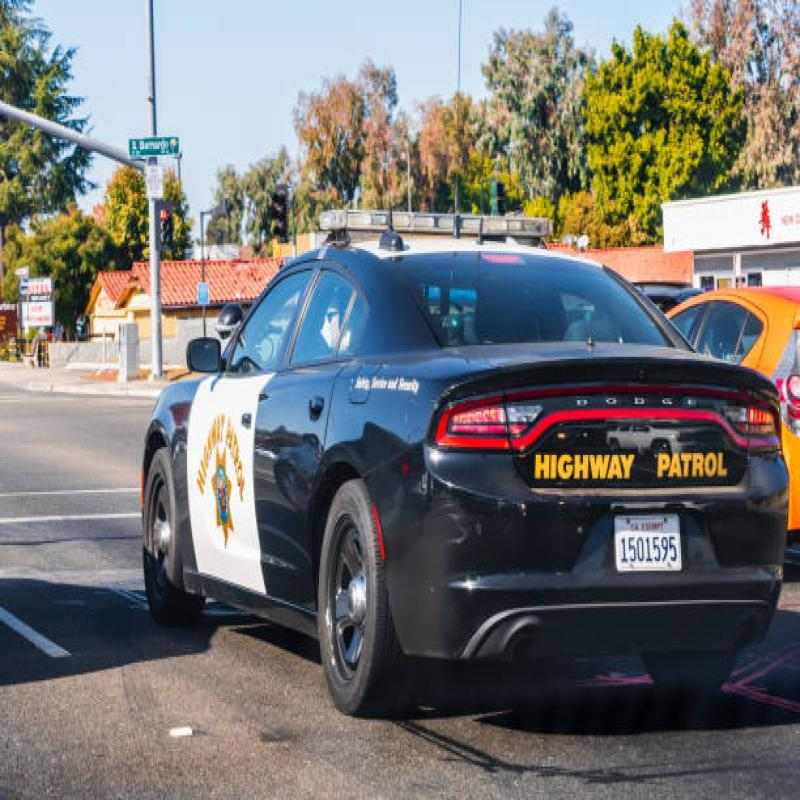AmbulanceSiren: (312, 182, 565, 263)
